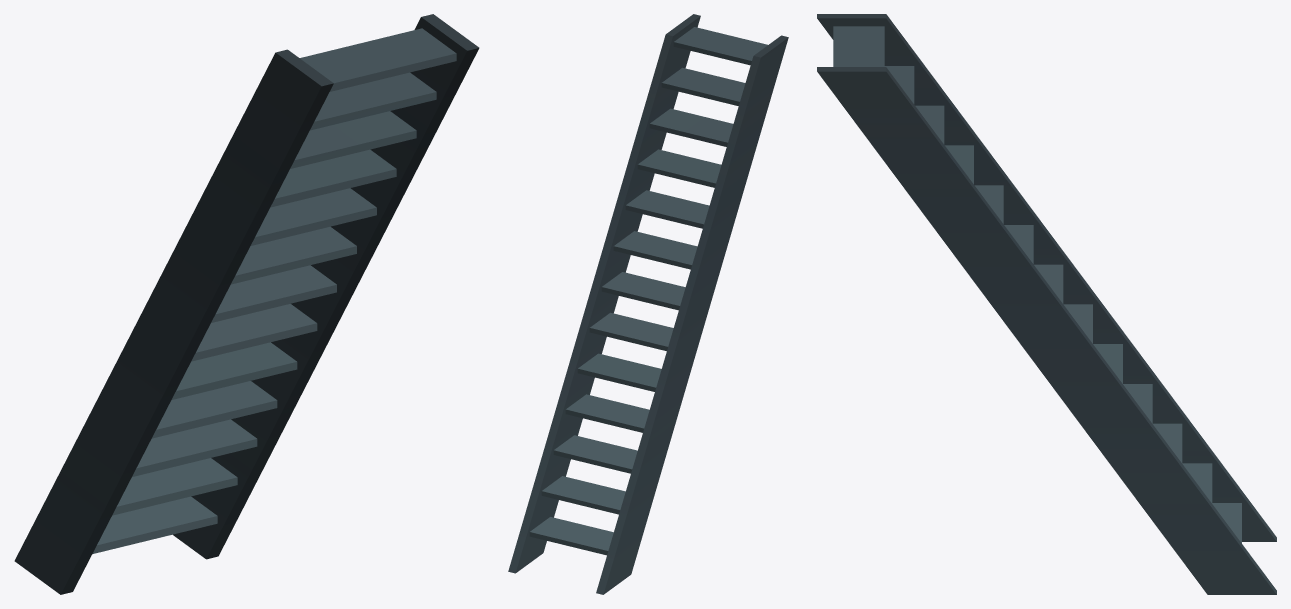
The model's file is FireEscape_B_2.fbx.
The picture shows the model from 3 angles, left to right: view 1: azimuth 30°, elevation 25°; view 2: azimuth 150°, elevation 25°; view 3: azimuth 270°, elevation 25°; orthographic projection. The views are drawn at different scales.
Visible parts, largest first — view 1: FireEscape_B_2; view 2: FireEscape_B_2; view 3: FireEscape_B_2.
Boxes of the visible parts, <box> form: FireEscape_B_2: <box>14,14,479,594</box>; FireEscape_B_2: <box>508,14,788,594</box>; FireEscape_B_2: <box>817,14,1276,594</box>.
Bounding box in the file's own units: 76.75 × 325 × 259.
